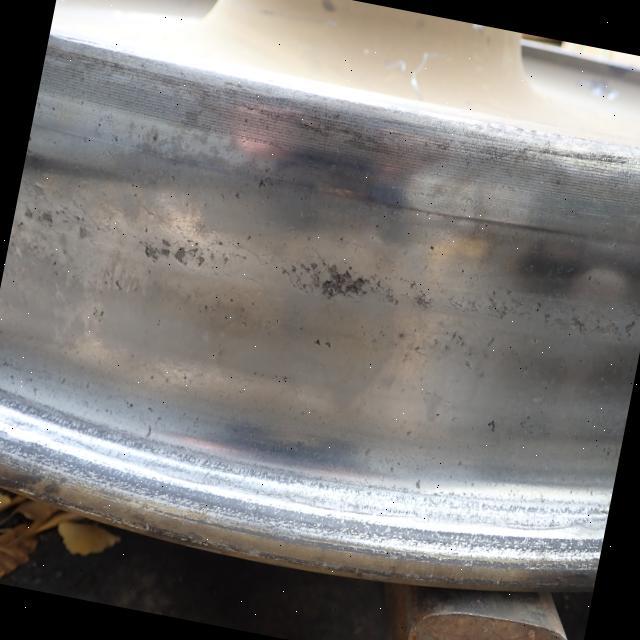Contact_Fatigue_Cracks: (412, 281, 533, 326), (234, 243, 282, 276), (138, 206, 172, 231), (20, 178, 54, 202)
Peeling: (276, 253, 402, 316), (142, 229, 237, 277), (540, 303, 640, 347), (18, 198, 97, 241)
